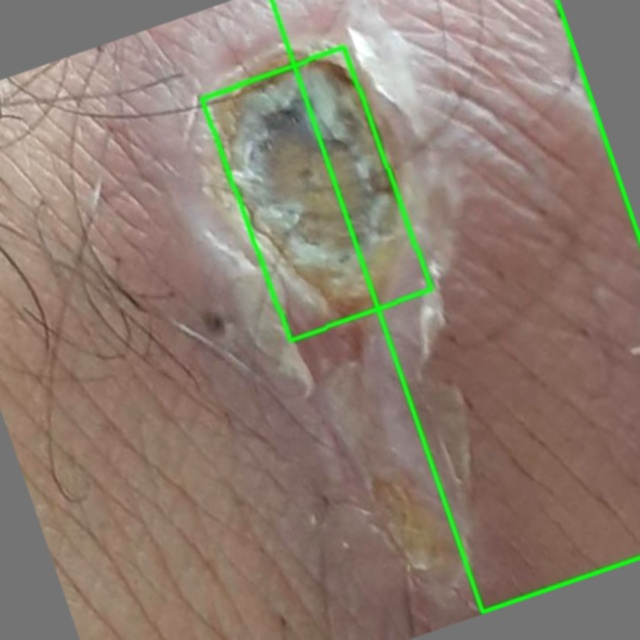Contact Dermatitis: (273, 0, 639, 612), (202, 47, 432, 340)
